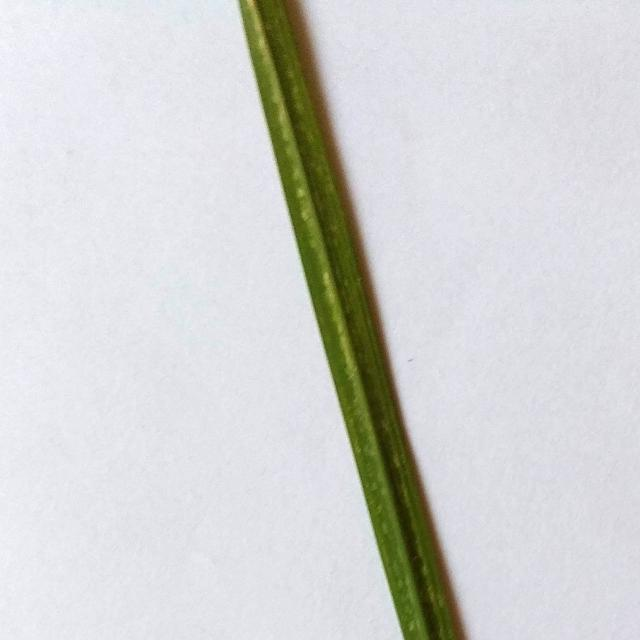Rice_Healthy: (239, 0, 458, 640)
